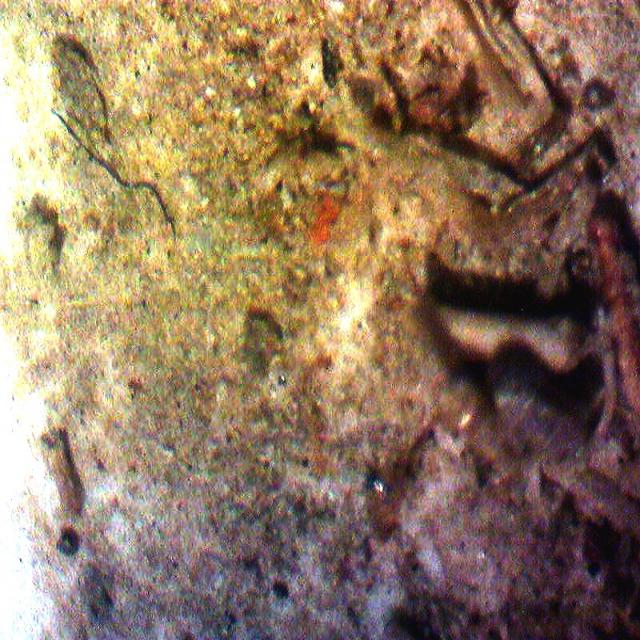microplastic: (52, 111, 175, 244)
